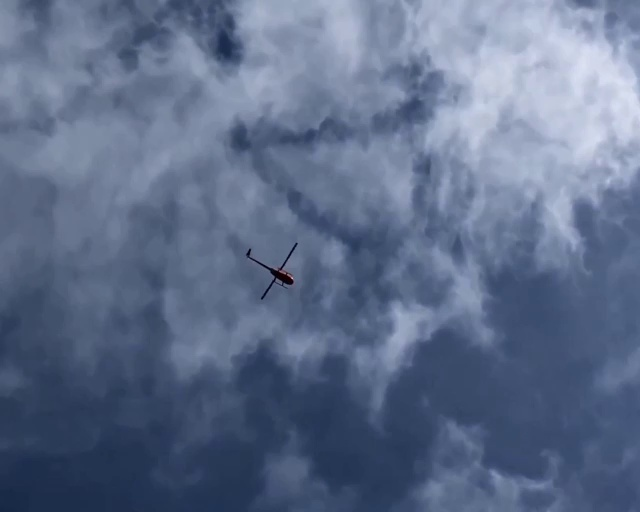HELICOPTER: (246, 242, 299, 302)
